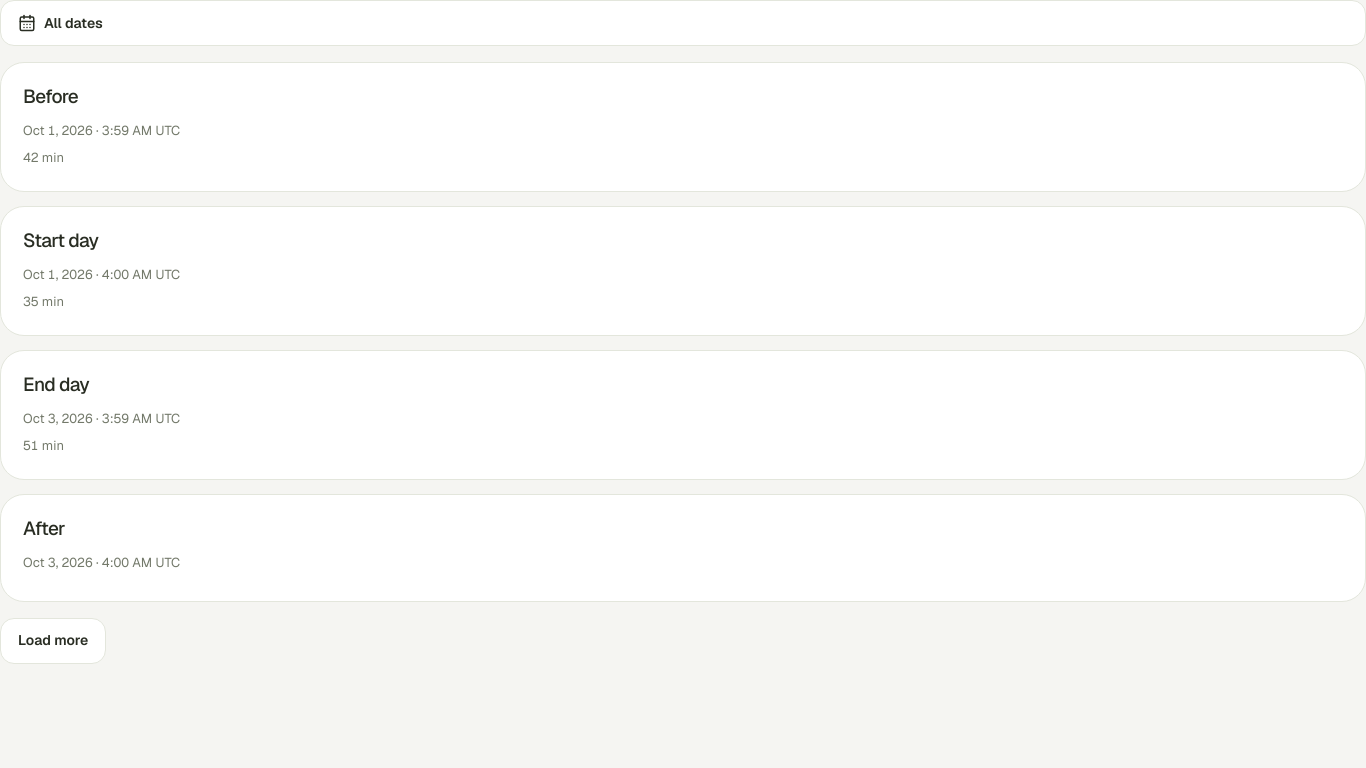
it: WorkoutHistory date filters › clears the range and restores all loaded history
Click the button with aria-label "Date range:" at (73, 23), box [0,0,1365,46]
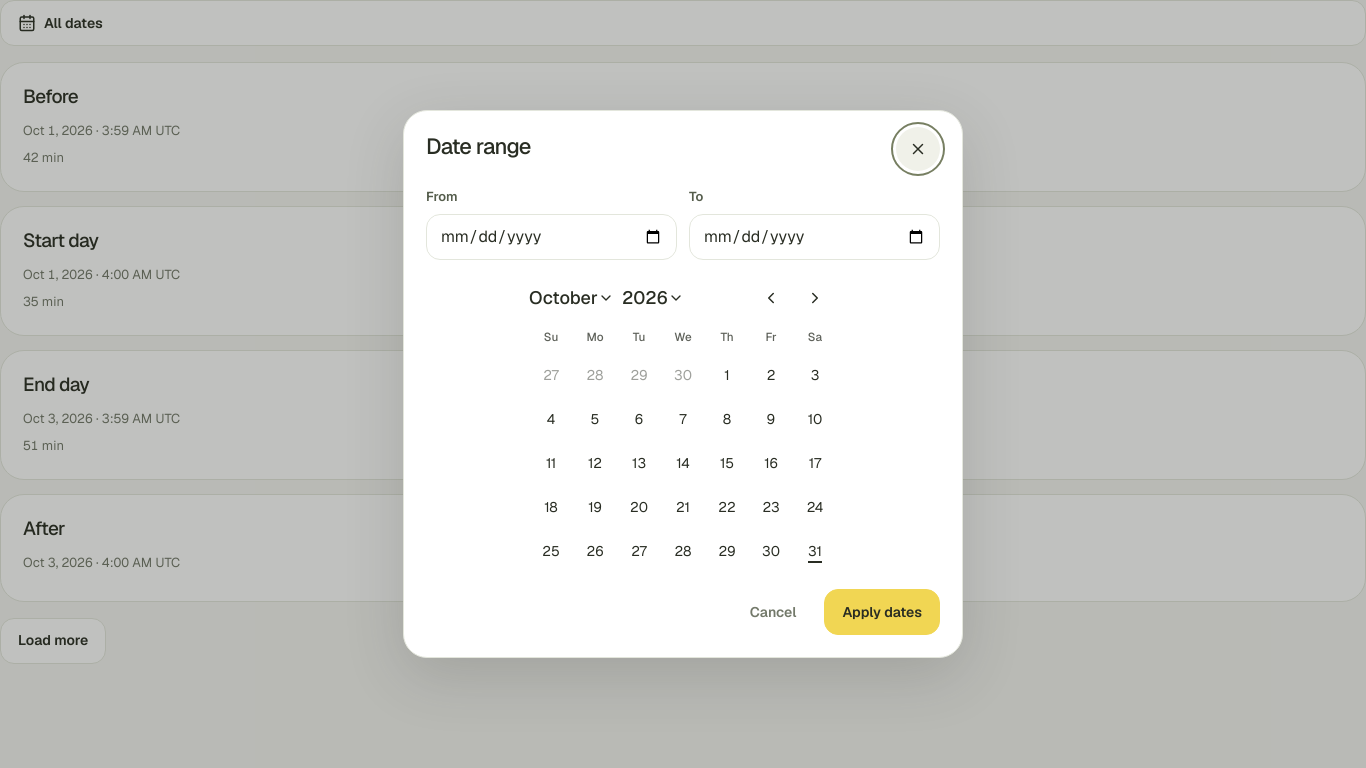
Type "2026-10-02" into the date field labelled "From" at (552, 236), box [426,214,677,260]
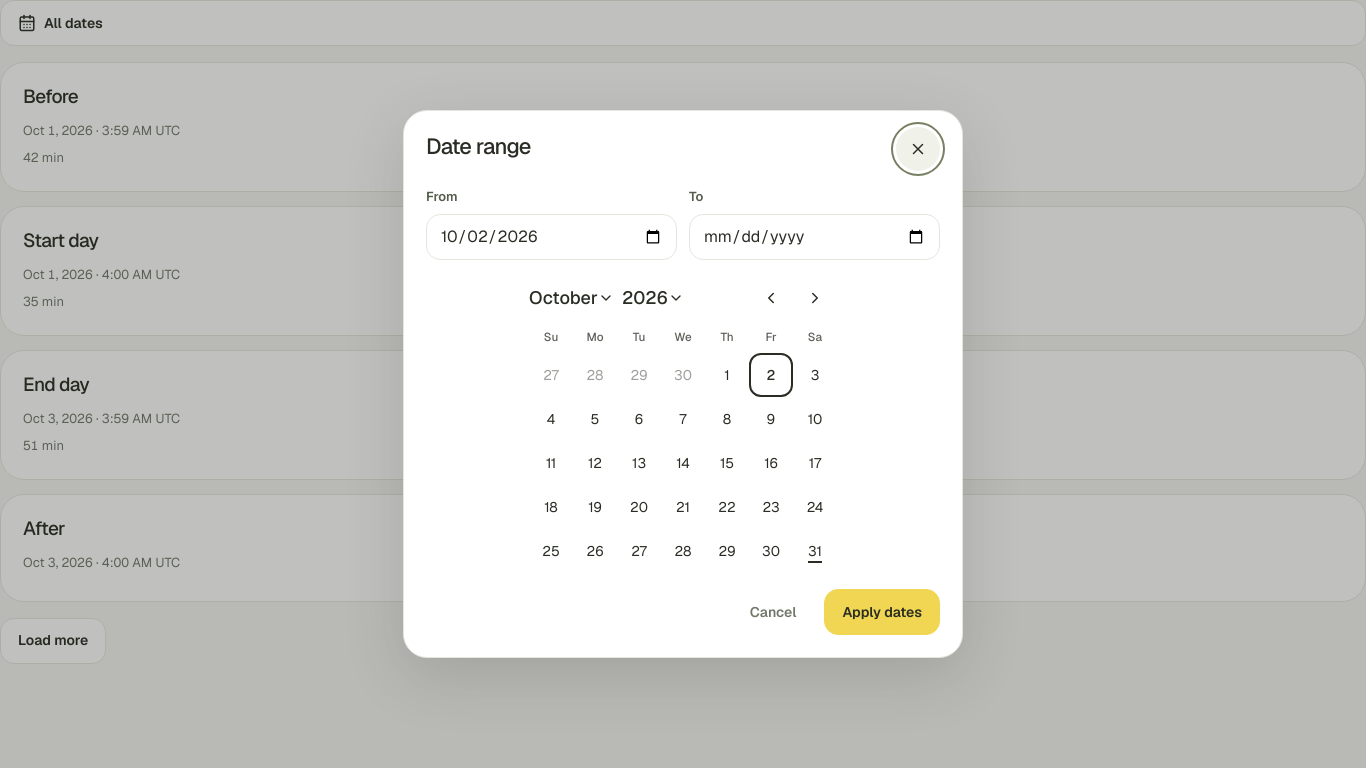
Click the button "Apply dates" at (882, 612), box [824,589,940,635]
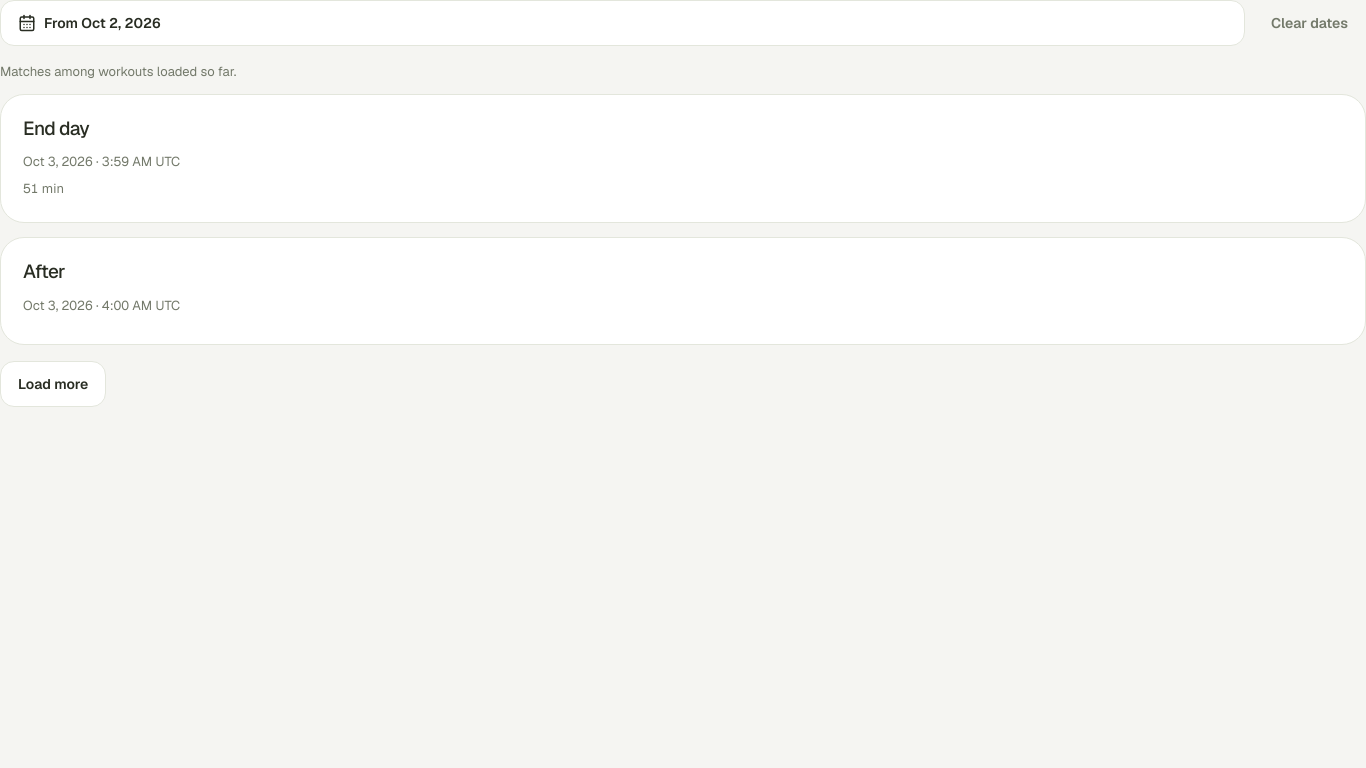
Now the button "Start day" is gone
Click the button "Clear dates" at (1309, 23), box [1253,0,1365,46]
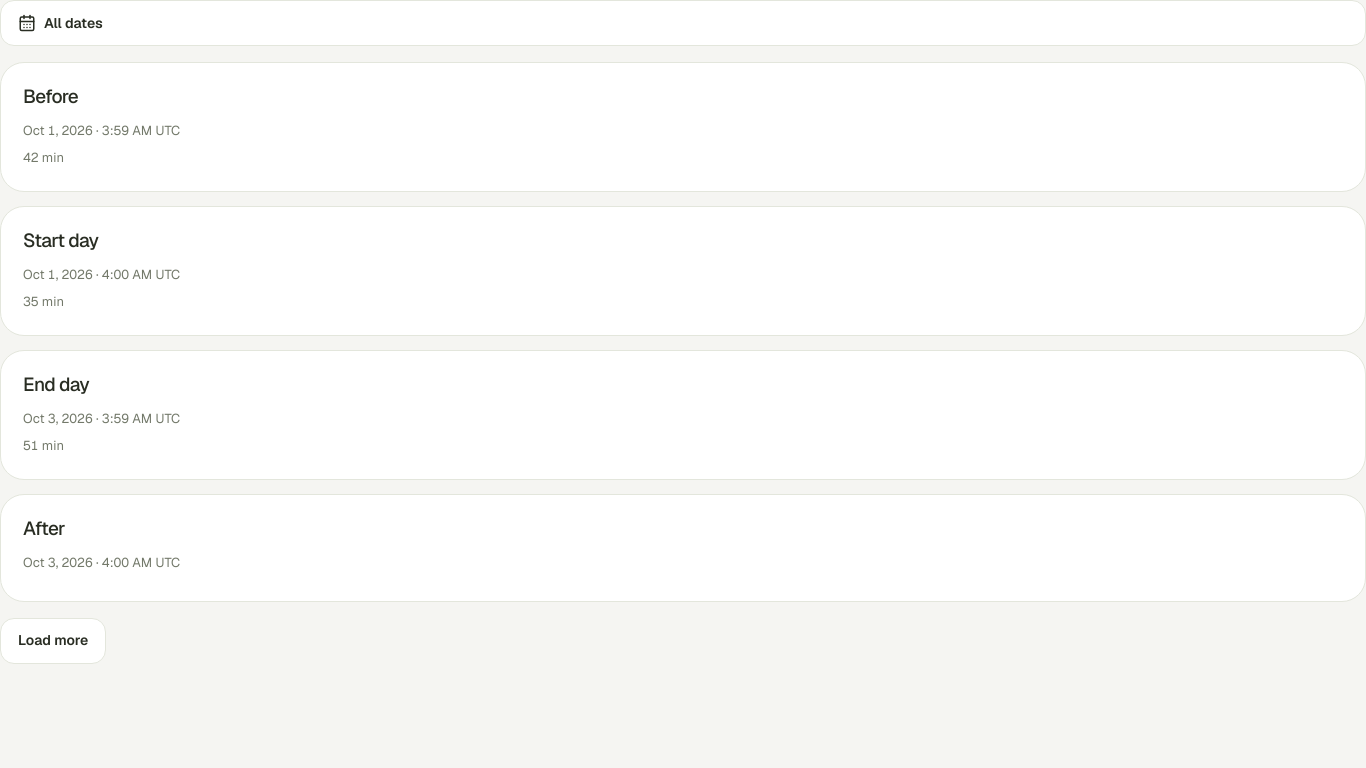
Expected: the heading "After" is shown, [23,516,65,541]
Now the heading "Start day" is shown, box [23,228,98,253]
